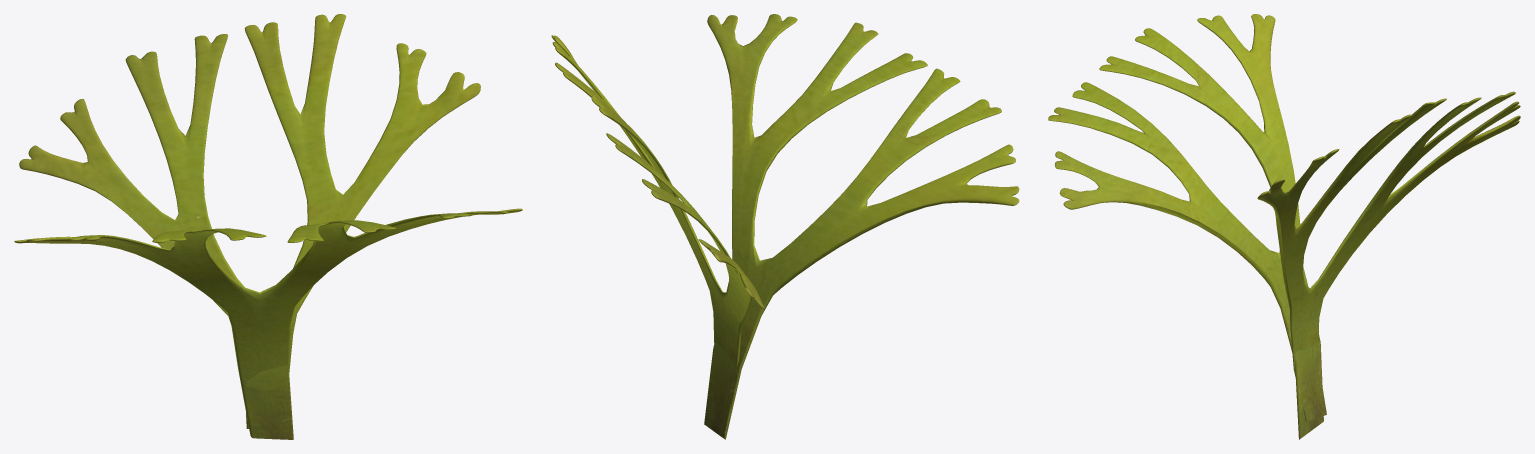
Rendered from Dictyota_2.FBX.
The picture shows the model from 3 angles, left to right: view 1: azimuth 30°, elevation 25°; view 2: azimuth 150°, elevation 25°; view 3: azimuth 270°, elevation 25°; orthographic projection. The views are drawn at different scales.
Visible parts, largest first — view 1: Box010; view 2: Box010; view 3: Box010.
Part boxes in pixels (x1,y1,x2,y2): Box010: (14, 14, 522, 439); Box010: (551, 14, 1019, 439); Box010: (1048, 14, 1520, 439).
Size of the model in its own units: 85.05 by 64.5 by 75.18.
